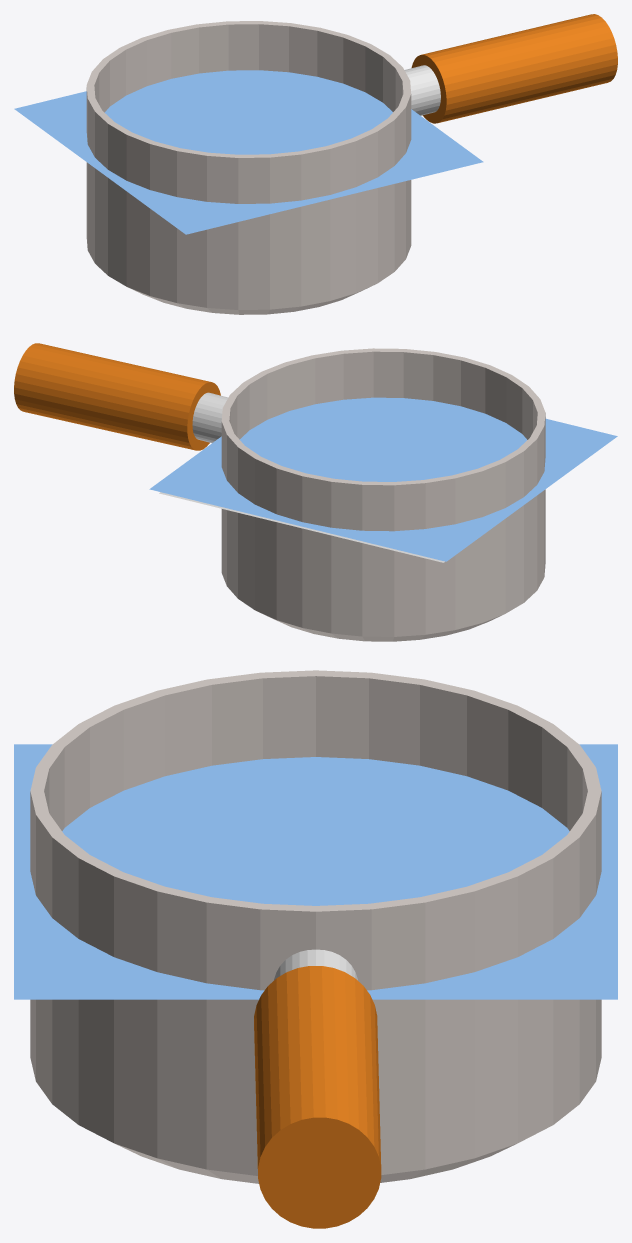
The model's file is boil-water.gltf.
The picture shows the model from 3 angles, top to bottom: view 1: azimuth 30°, elevation 25°; view 2: azimuth 150°, elevation 25°; view 3: azimuth 270°, elevation 25°; orthographic projection. The views are drawn at different scales.
Visible parts, largest first — view 1: Circle, Plane; view 2: Circle, Plane, Plane.001; view 3: Circle, Plane.
Part boxes in pixels (x1,y1,x2,y2): Circle: (86,14,617,314); Plane: (14,70,483,234); Circle: (14,343,545,641); Plane: (149,397,617,561); Plane.001: (159,492,444,562); Circle: (30,670,601,1228); Plane: (14,744,617,999).
Size of the model in its own units: 12.29 by 3.89 by 7.3.
